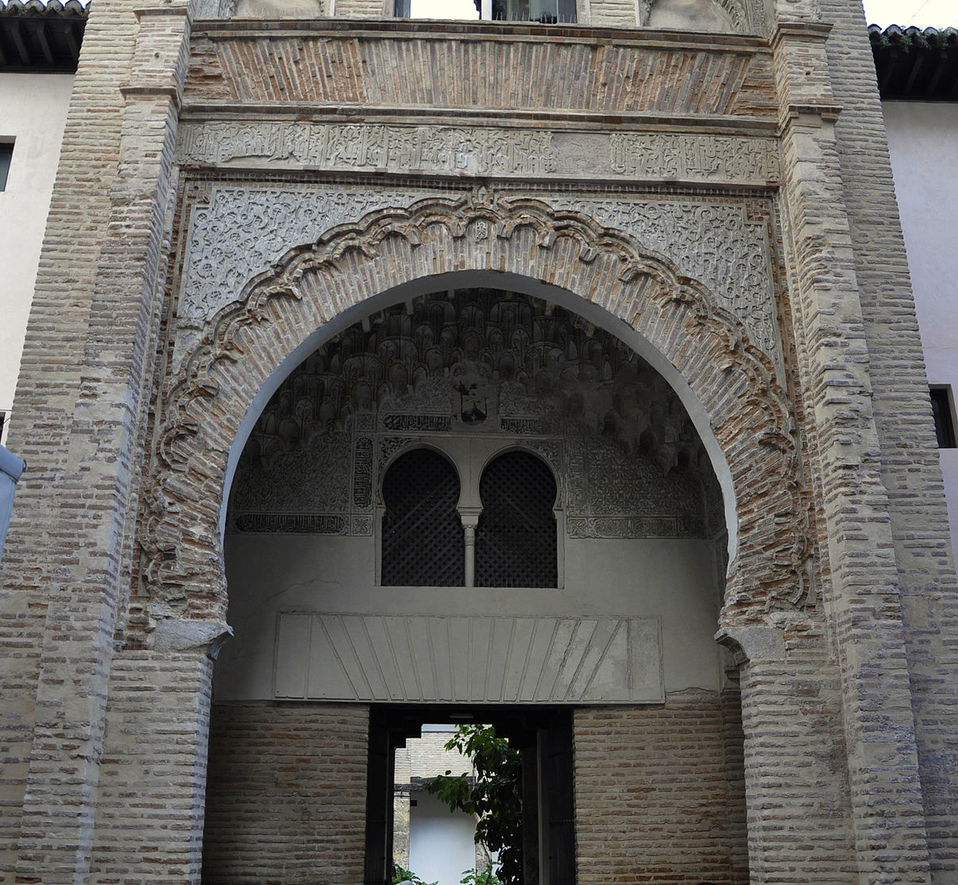arco-herradura: (181, 239, 778, 697), (371, 439, 471, 543), (469, 438, 562, 539)
dintel-adovelado: (208, 26, 753, 120), (317, 610, 629, 701)
